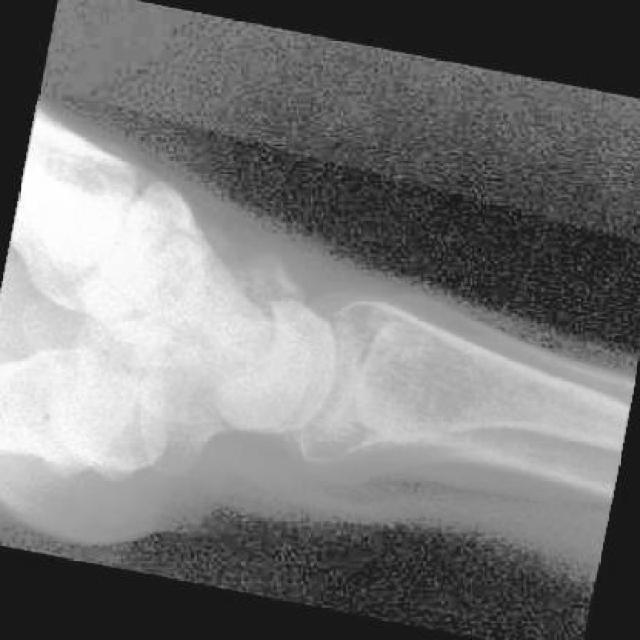Fracture: (137, 206, 240, 328)
